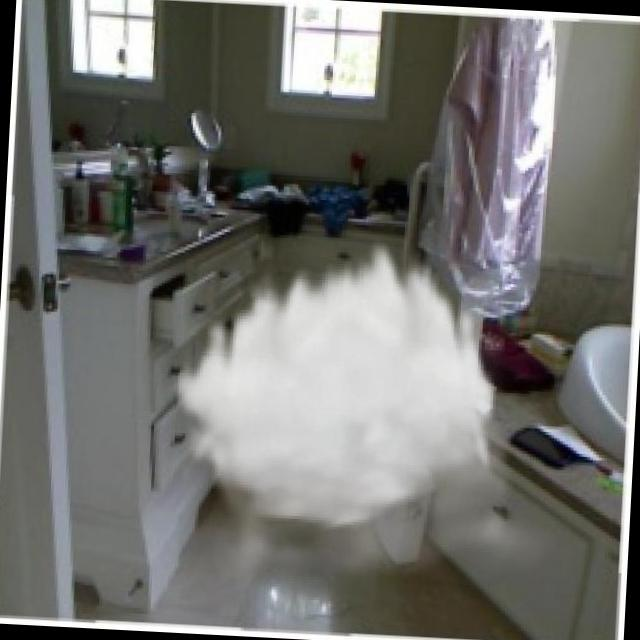Smoke: (161, 224, 576, 613)
